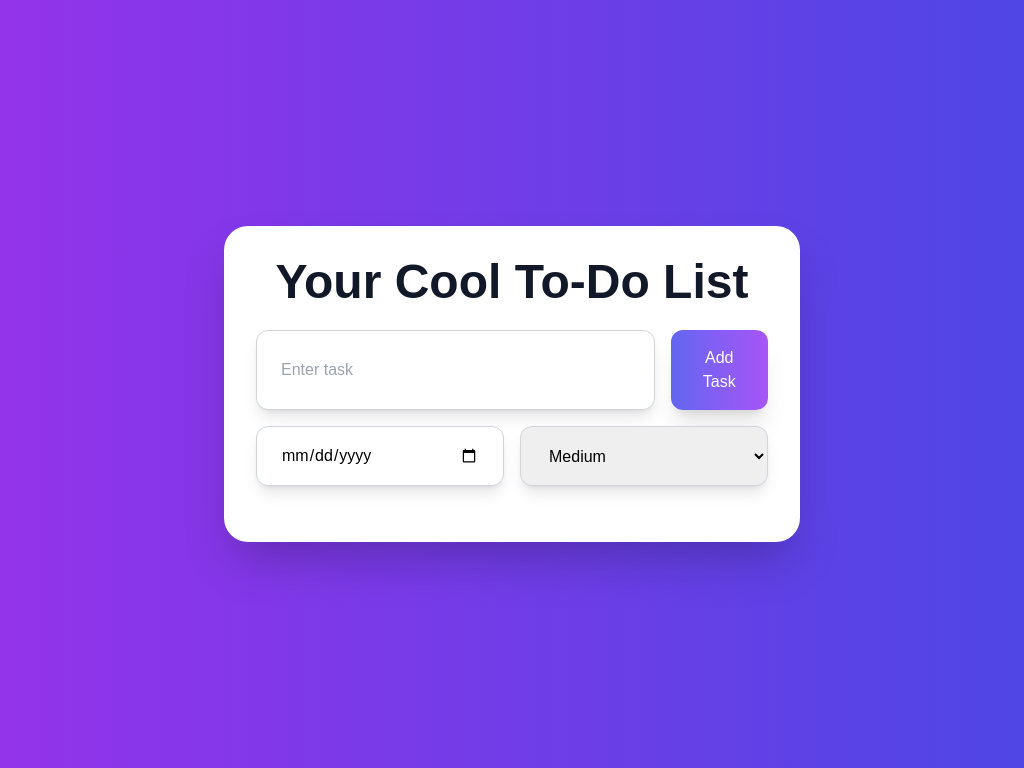
To-Do App › adds a new task
Type "Cypress Test Task" into the field with placeholder "Enter task" at coordinates (456, 370), box 256,330 -> 655,410
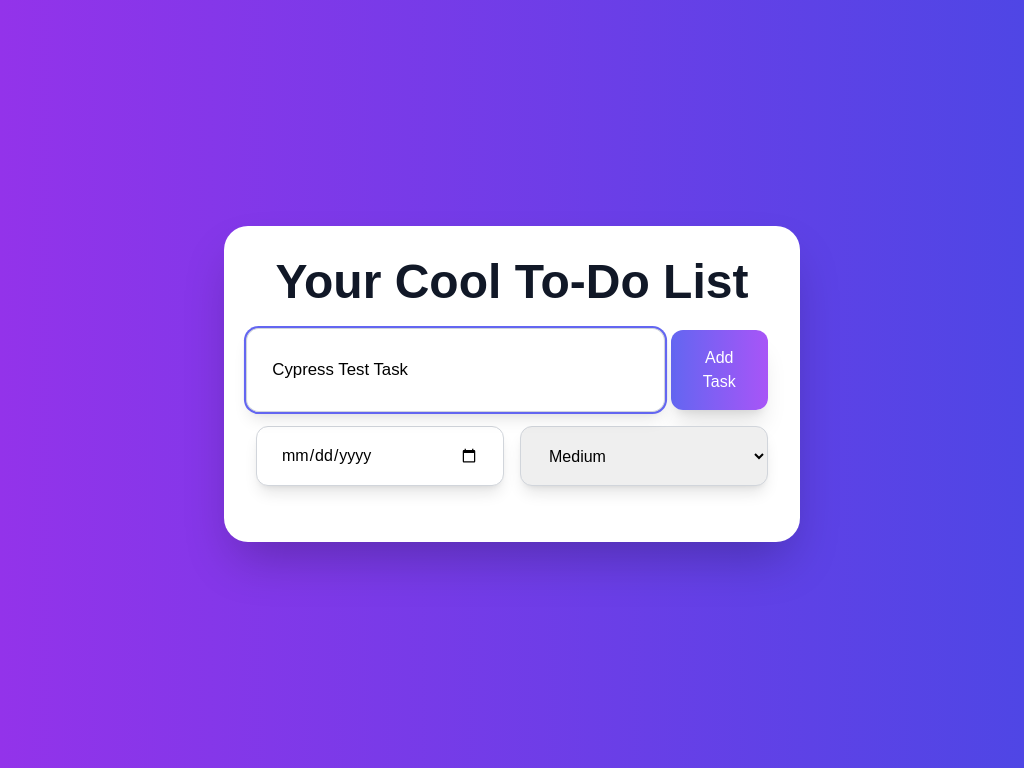
Click the button "Add Task" at coordinates (720, 370), box 671,330 -> 768,410
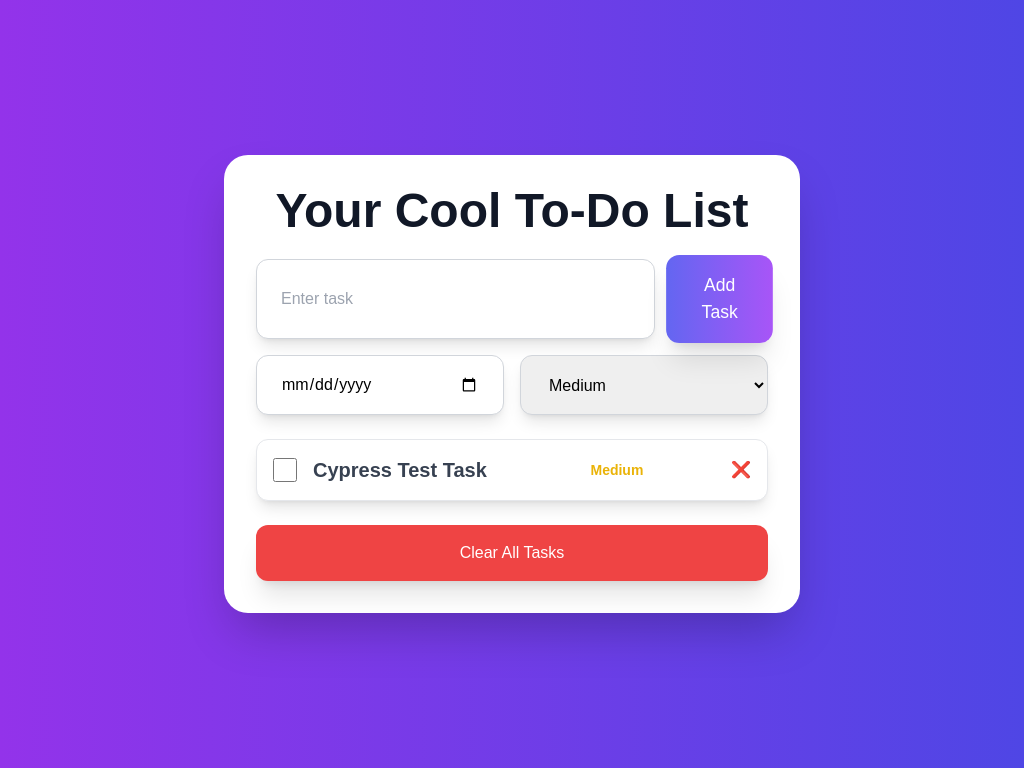
Now the text "Cypress Test Task" is shown, box 313,456 -> 487,484
